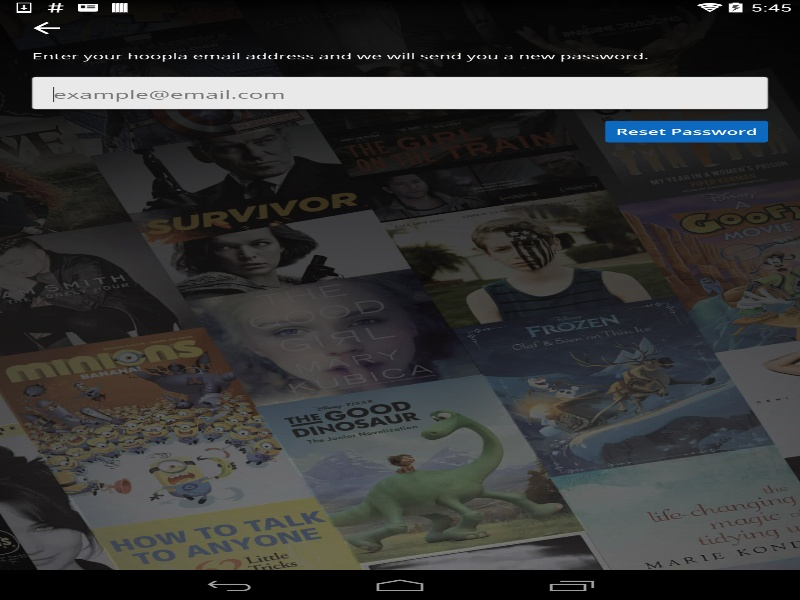Input: (53, 86, 746, 101)
